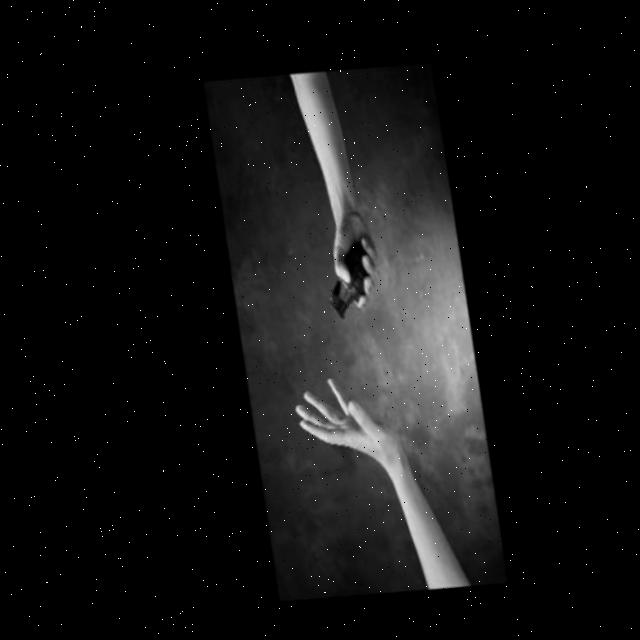grenade: (298, 224, 391, 342)
